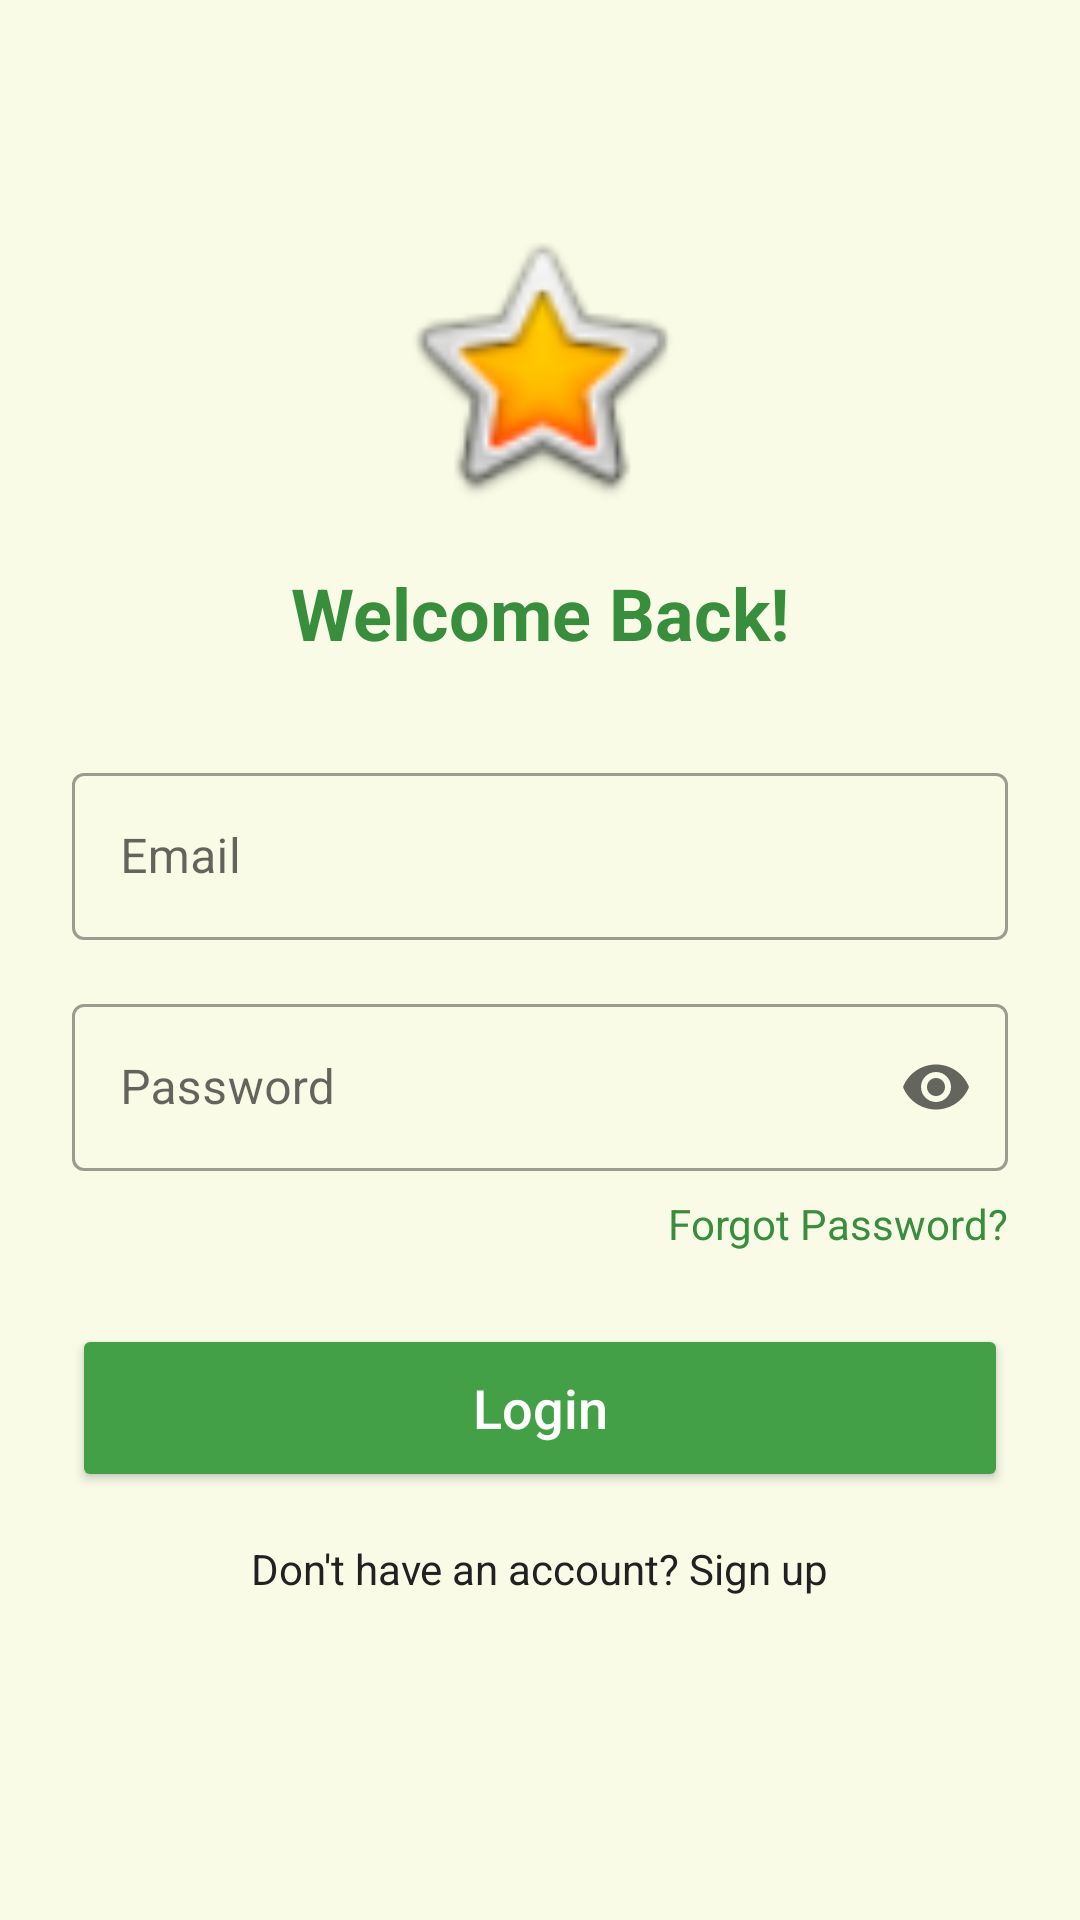

Named icons in this screenshot (1080x1920) and their bounding boxes, region(x1, y1, x2, y2):
star on: region(417, 246, 668, 490)
